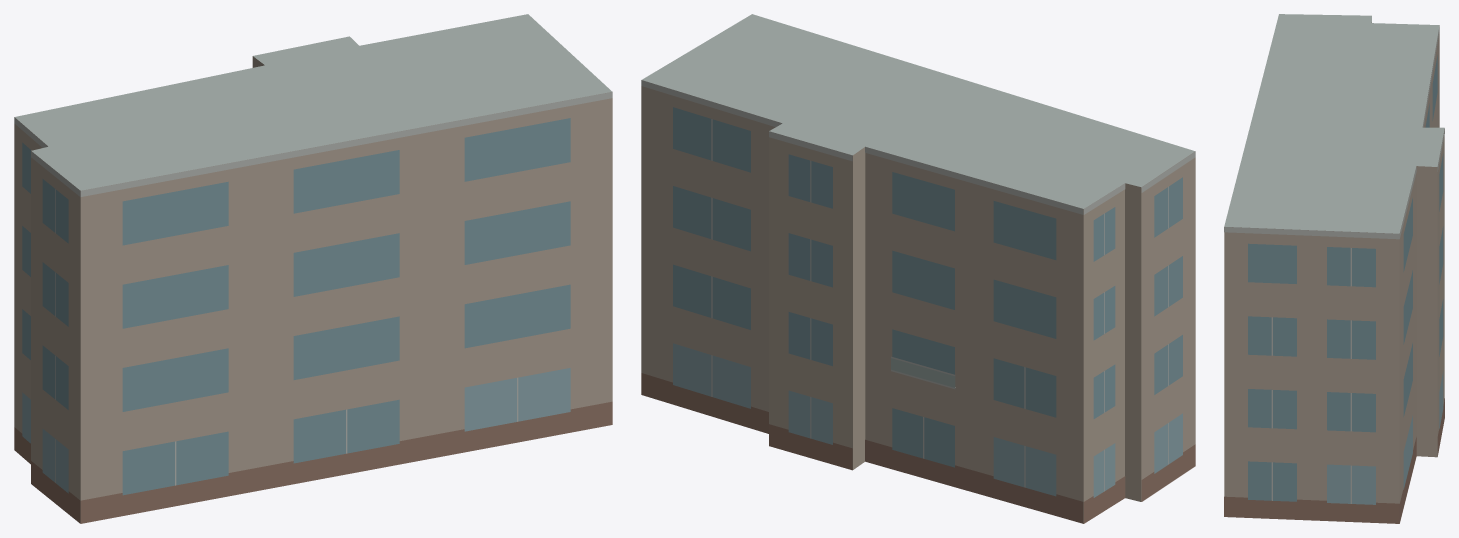
Rendered from survey-upis-32965728.glb.
3 views of the same model, side by side, from view 1: azimuth 30°, elevation 25°; view 2: azimuth 150°, elevation 25°; view 3: azimuth 270°, elevation 25° (orthographic). The views are drawn at different scales.
Visible parts, largest first — view 1: survey-upis-32965728.tmp; view 2: survey-upis-32965728.tmp; view 3: survey-upis-32965728.tmp.
Boxes of the visible parts, x1,y1,x2,y2 form: survey-upis-32965728.tmp: [14, 14, 612, 523]; survey-upis-32965728.tmp: [641, 14, 1195, 523]; survey-upis-32965728.tmp: [1224, 14, 1444, 523].
Size of the model in its own units: 20.63 by 12.7 by 8.76.
